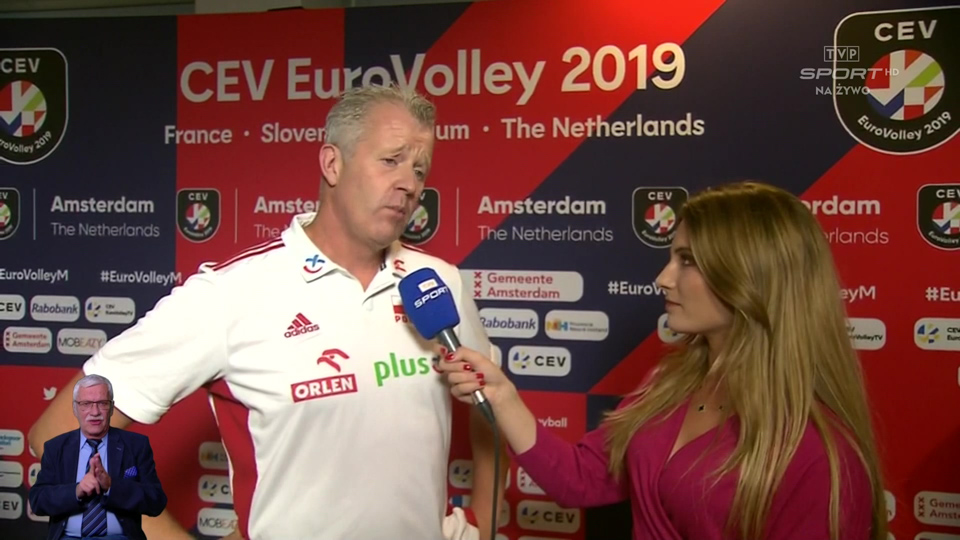Adidas: (282, 313, 321, 339)
